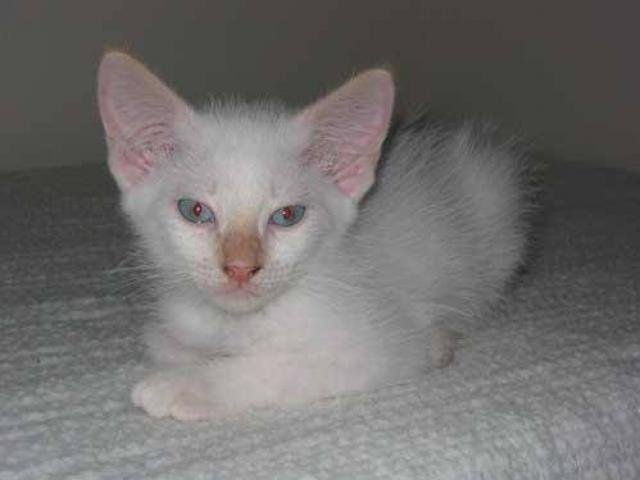cat: (94, 50, 545, 431)
